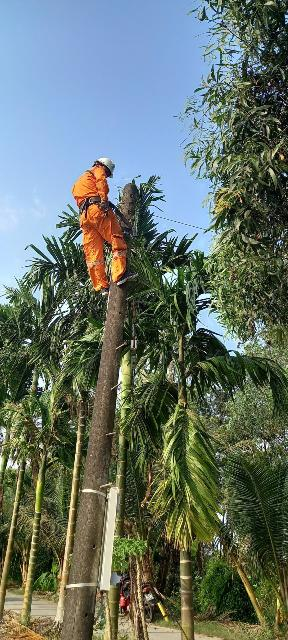gloves: (99, 200, 113, 219)
harness: (72, 195, 110, 210)
helmet: (96, 154, 122, 178)
shoes: (106, 265, 142, 285), (98, 283, 114, 299)
